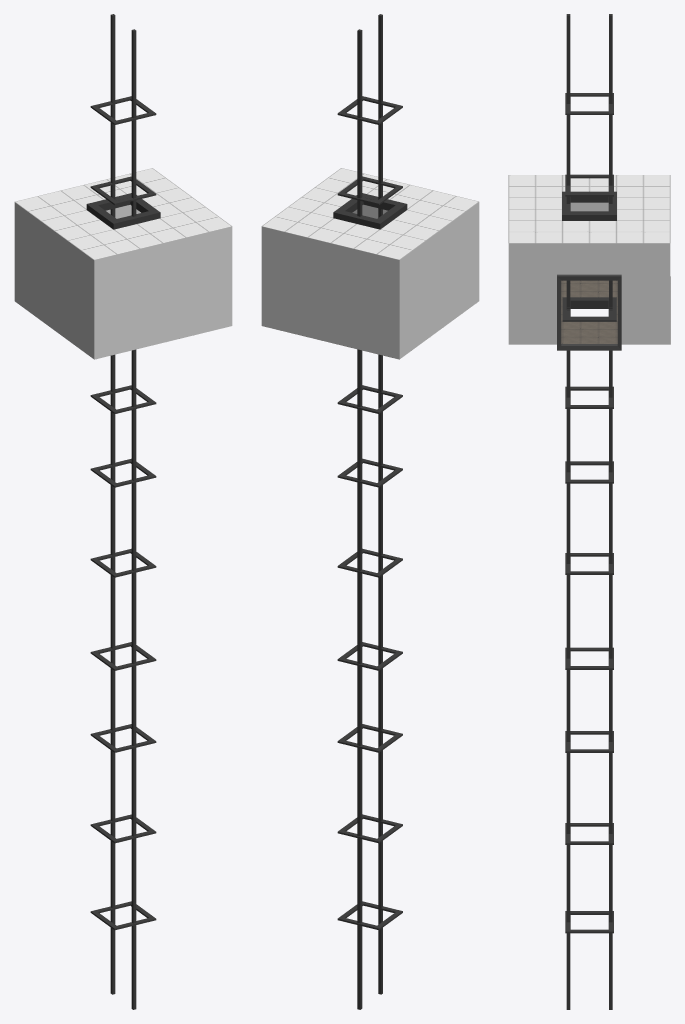
3 views of the same model, side by side, from view 1: azimuth 30°, elevation 25°; view 2: azimuth 150°, elevation 25°; view 3: azimuth 270°, elevation 25° (orthographic).
Visible parts, largest first — view 1: walls, ElevatorRails, ceiling; view 2: walls, ElevatorRails, ceiling; view 3: ElevatorRails, walls, ceiling, floor, DoorFrame.
Part boxes in pixels (<box>): walls: <box>14,202,232,359</box>; ElevatorRails: <box>86,14,160,1009</box>; ceiling: <box>14,168,232,260</box>; walls: <box>261,202,479,359</box>; ElevatorRails: <box>333,14,407,1009</box>; ceiling: <box>262,168,478,259</box>; ElevatorRails: <box>562,14,616,1009</box>; walls: <box>508,202,670,344</box>; ceiling: <box>508,175,670,243</box>; floor: <box>561,276,670,344</box>; DoorFrame: <box>557,274,621,350</box>.
Size of the model in its own units: 4.62 by 30.47 by 4.51.
Materials: 6 (2 with a texture image).
